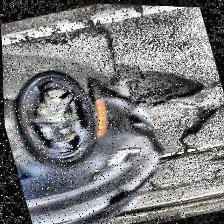pothole: (107, 46, 207, 118), (172, 102, 222, 140)
